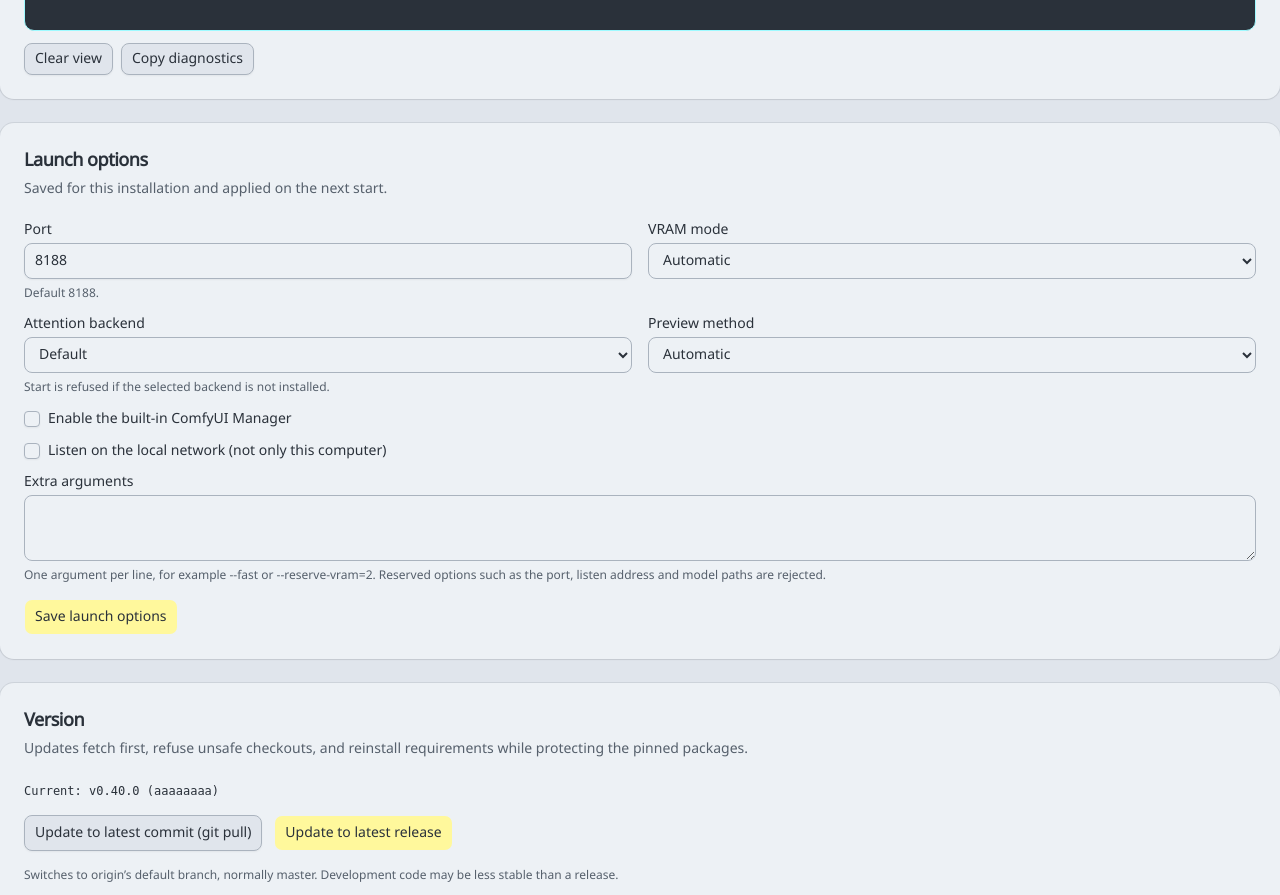
Test: refuses to enable network exposure without acknowledgement
(page scrolled)
Step 1. Click the 2nd checkbox named "Listen on the local network" → [32, 451], box [24, 443, 40, 459]
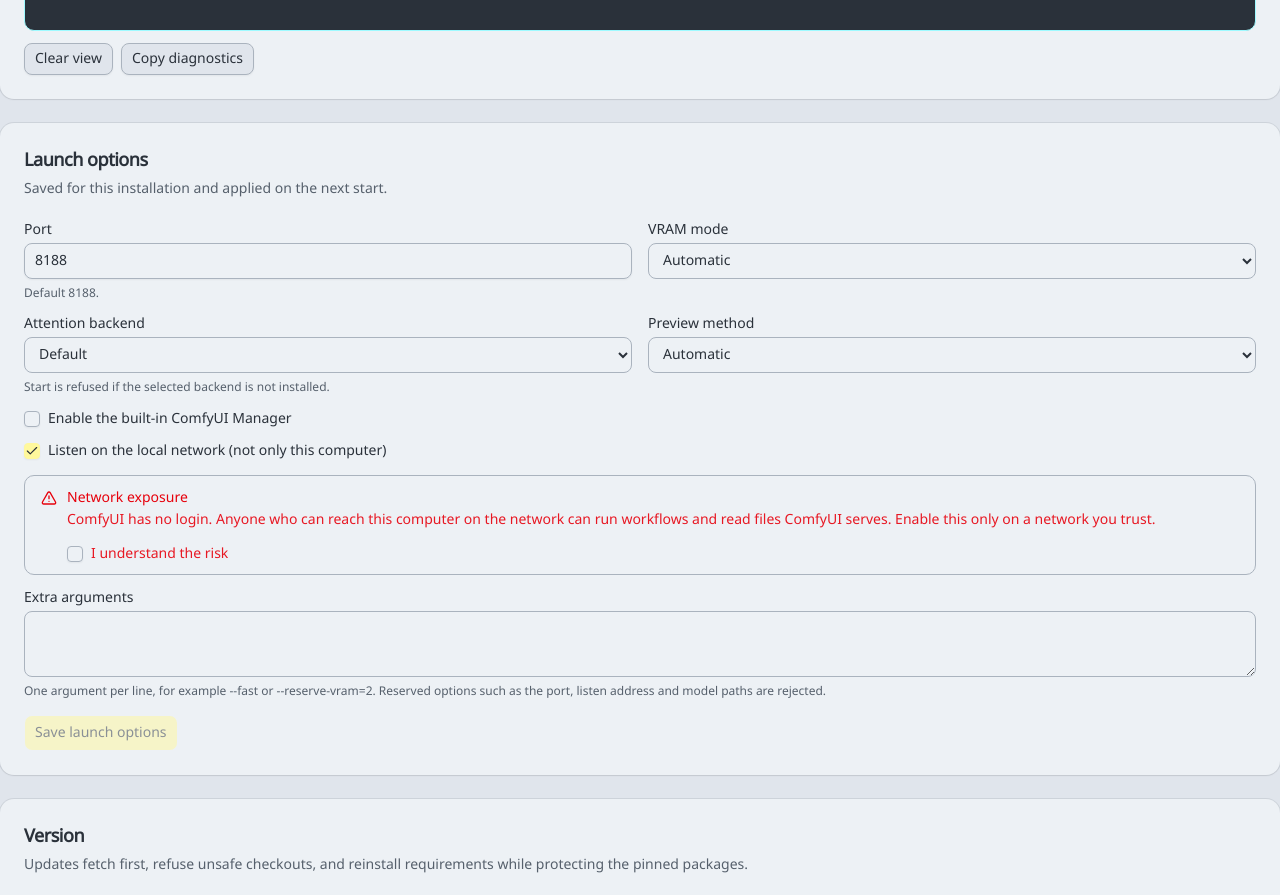
Expected: the button "Save launch options" is disabled, [24, 715, 178, 751]
Step 2. Click the checkbox named "I understand the risk" next to "I understand the risk" → [75, 554], box [67, 546, 83, 562]
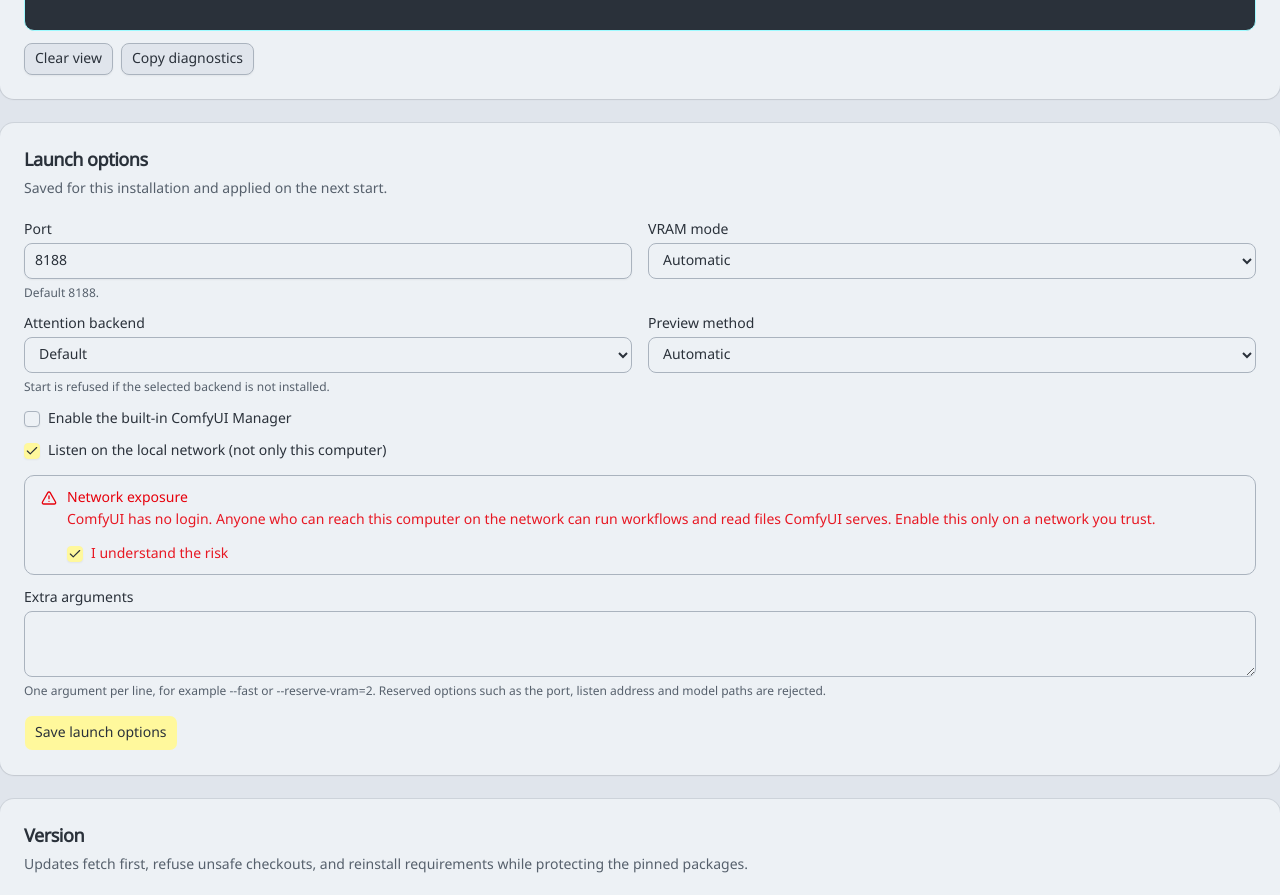
Expected: the button "Save launch options" is enabled, [24, 715, 178, 751]
